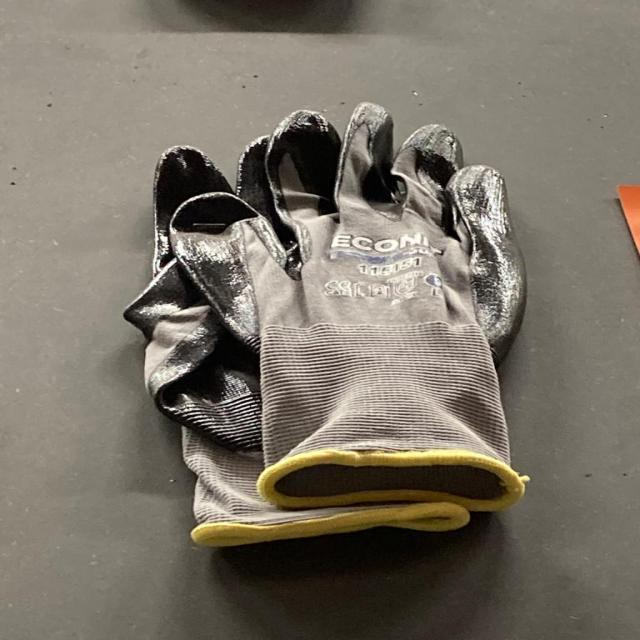gloves: (121, 97, 559, 575)
